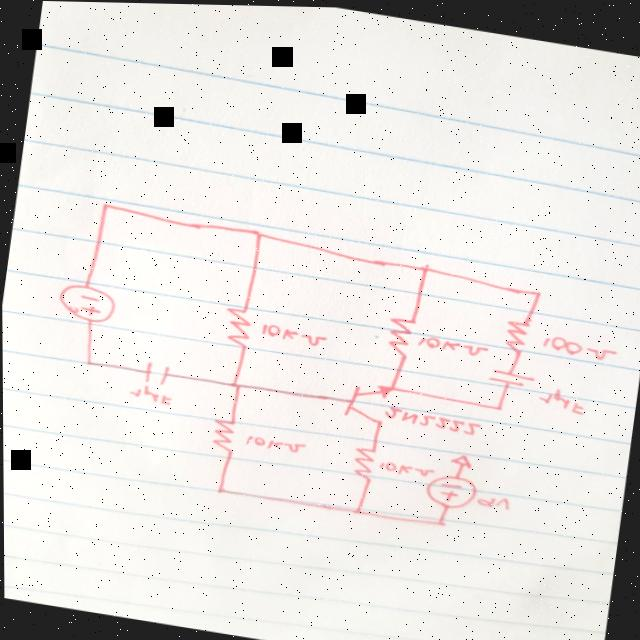capacitor: (483, 362, 535, 388), (137, 356, 172, 387)
ground: (447, 449, 475, 466)
junction: (224, 377, 241, 391), (97, 199, 114, 212), (349, 504, 364, 516), (211, 483, 226, 495), (250, 227, 263, 240), (82, 356, 95, 369), (415, 261, 429, 273), (531, 287, 542, 296), (432, 518, 443, 526), (492, 401, 501, 410)
resistor: (217, 302, 256, 349), (382, 311, 420, 359), (346, 441, 379, 483), (206, 415, 240, 452), (498, 316, 530, 352)
source: (52, 279, 117, 327), (419, 470, 477, 510)
text: (381, 402, 482, 433), (534, 330, 618, 363), (257, 319, 329, 348), (413, 332, 487, 356), (534, 383, 589, 413), (240, 430, 306, 454), (374, 455, 433, 478), (125, 383, 179, 407), (475, 490, 510, 508)
transistor: (338, 374, 394, 426)
